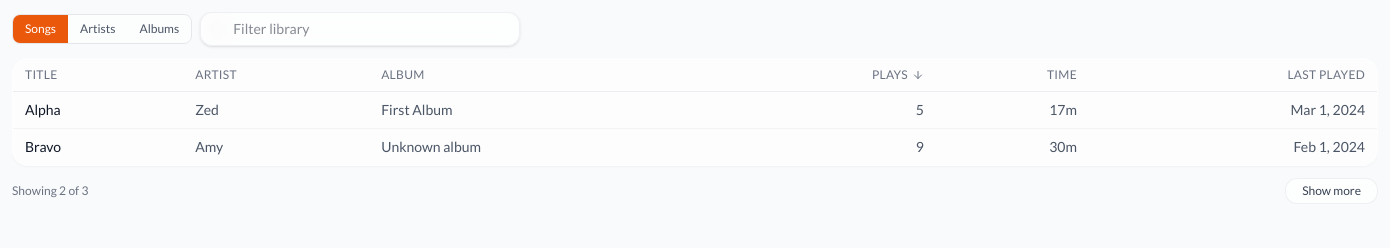
it: MusicLibrarySection › loads the next page after the rows it already has, and says how many there are
This screenshot has width=1390, height=248.
Expected: the text "Showing 2 of 3" is shown, [12,183,88,199]
Step 1. Click the button "Show more" → (1332, 191), box [1285,178,1378,204]
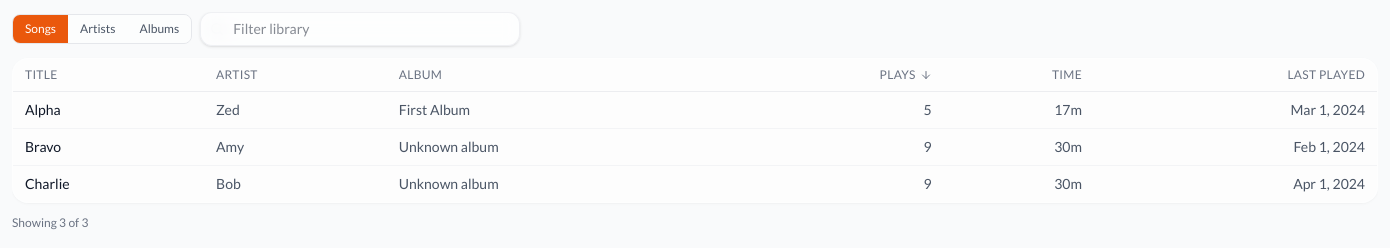
Result: the text "Showing 3 of 3" is shown at [12,215,88,231]
Result: the button "Show more" is gone
